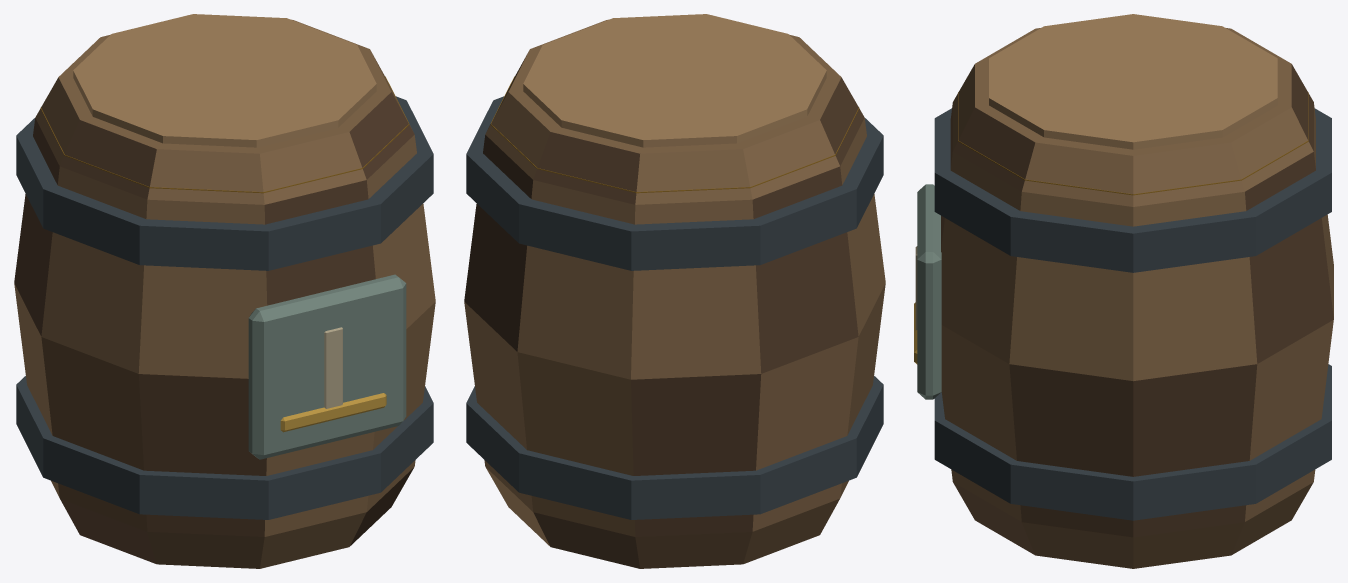
The model's file is reserve_gin_cask.glb.
The picture shows the model from 3 angles, left to right: view 1: azimuth 30°, elevation 25°; view 2: azimuth 150°, elevation 25°; view 3: azimuth 270°, elevation 25°; orthographic projection.
Parts seen in each view (by area): view 1: reserve_gin_cask; view 2: reserve_gin_cask; view 3: reserve_gin_cask.
Part boxes in pixels (x1,y1,x2,y2): reserve_gin_cask: [14, 14, 435, 568]; reserve_gin_cask: [464, 14, 885, 568]; reserve_gin_cask: [914, 14, 1333, 568].
Size of the model in its own units: 0.62 by 0.682 by 0.6171.
